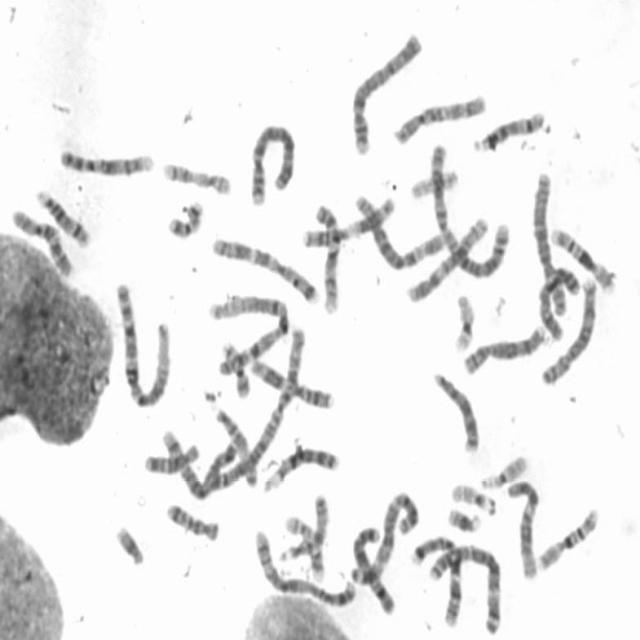A1: (112, 276, 174, 410), (206, 292, 291, 378)
A2: (201, 320, 308, 497), (427, 135, 512, 283)
A3: (346, 484, 422, 588), (427, 538, 506, 638)
B4: (348, 29, 424, 158), (246, 120, 297, 207)
B5: (251, 527, 358, 608), (160, 428, 240, 502)
C10: (388, 88, 490, 148), (8, 203, 76, 280)
C11: (298, 192, 397, 250), (245, 353, 338, 411)
C12: (403, 212, 490, 304), (504, 475, 544, 581)
C6: (352, 190, 448, 272), (529, 167, 569, 321)
C7: (208, 234, 322, 306), (408, 528, 464, 631)
C8: (538, 274, 599, 389), (460, 321, 547, 377)
C9: (311, 198, 343, 314), (56, 143, 158, 179)
D13: (429, 368, 482, 456), (259, 442, 341, 495)
D14: (468, 104, 546, 154), (32, 185, 91, 248)
D15: (202, 389, 259, 490), (276, 489, 330, 565)
E16: (547, 224, 617, 295), (534, 502, 603, 573)
E17: (282, 511, 326, 584), (159, 157, 235, 198)
E18: (163, 499, 220, 543), (142, 439, 201, 477)
F19: (407, 165, 461, 201), (449, 288, 478, 354)
F20: (219, 336, 253, 400), (166, 198, 204, 240)
G21: (112, 521, 146, 568), (444, 504, 484, 534)
G22: (478, 450, 529, 489), (449, 479, 498, 517)
X: (349, 522, 398, 618), (536, 261, 581, 342)
